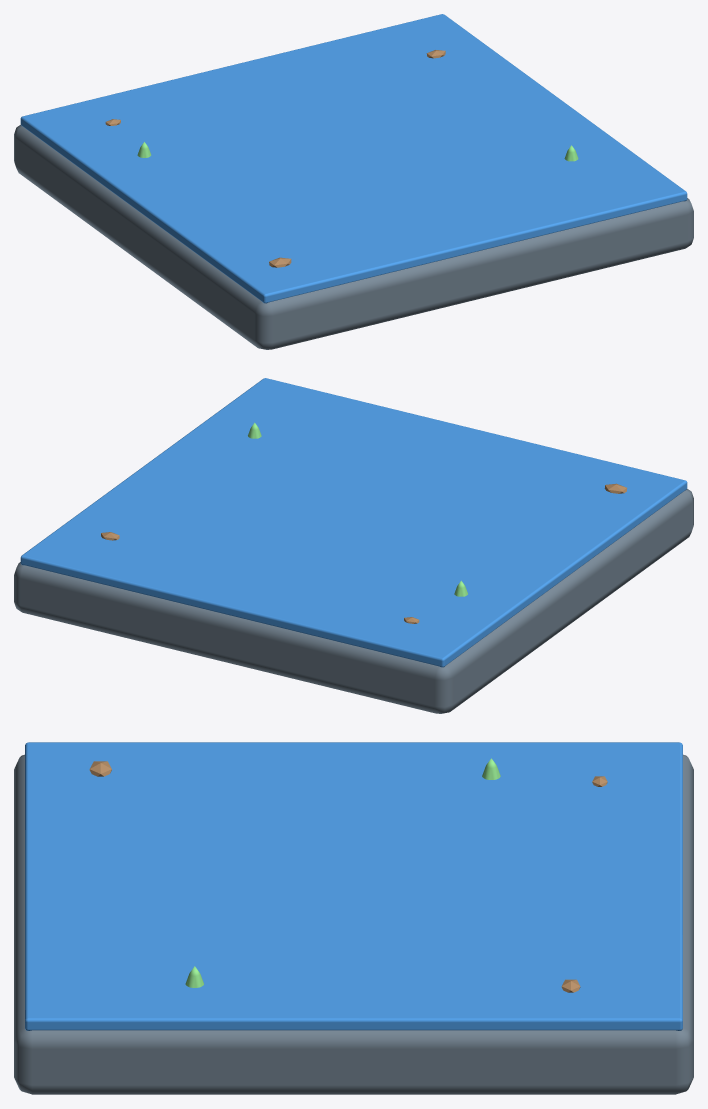
File: Tile_Crystal.fbx
3 renders of one model, top to bottom at view 1: azimuth 30°, elevation 25°; view 2: azimuth 150°, elevation 25°; view 3: azimuth 270°, elevation 25°, orthographic. The views are drawn at different scales.
Parts seen in each view (by area): view 1: Soft grass surface.002, Rounded soil edge.002; view 2: Soft grass surface.002, Rounded soil edge.002; view 3: Soft grass surface.002, Rounded soil edge.002.
Part boxes in pixels (left/top/right/bottom): Soft grass surface.002: left=20, top=14, right=687, bottom=303; Rounded soil edge.002: left=14, top=124, right=693, bottom=349; Soft grass surface.002: left=20, top=378, right=687, bottom=667; Rounded soil edge.002: left=14, top=488, right=693, bottom=713; Soft grass surface.002: left=25, top=742, right=682, bottom=1030; Rounded soil edge.002: left=14, top=754, right=693, bottom=1094.
Size of the model in its own units: 940 by 146 by 940.
